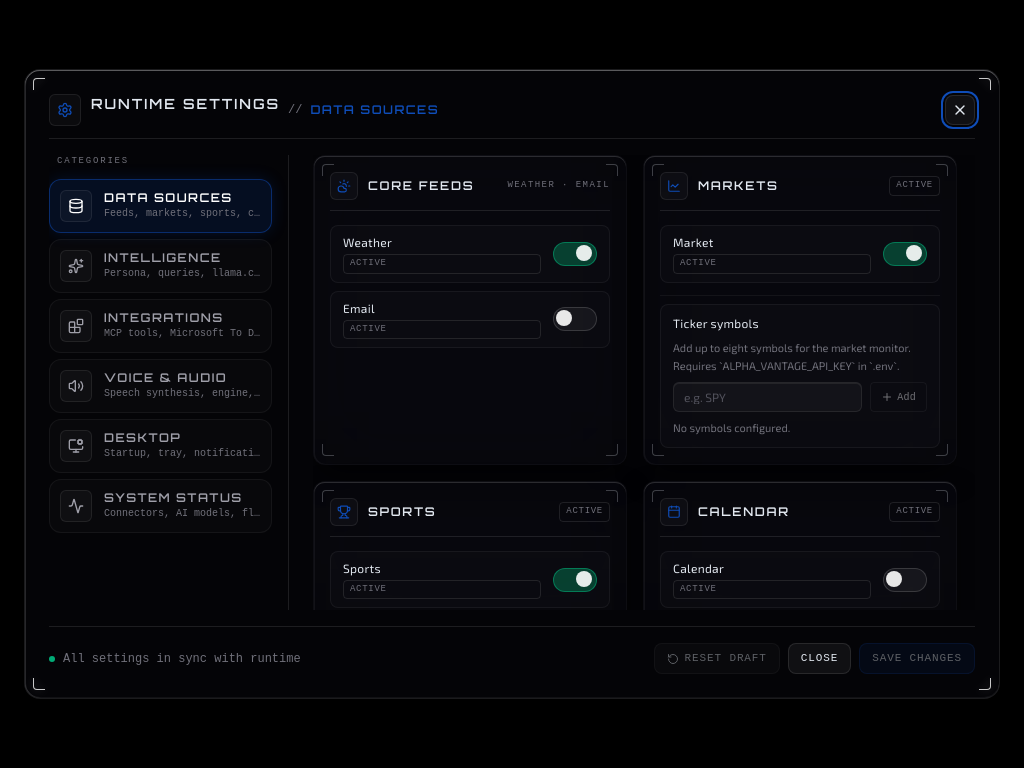
Test case: SettingsPanel › keeps assistant configuration in Cortex while retaining the global enable switch
What coordinates should you click on to do the following:
click the tab "Intelligence Persona, queries, llama.cpp"
I would click on:
 (160, 266)
Its box is [49,239,272,293].
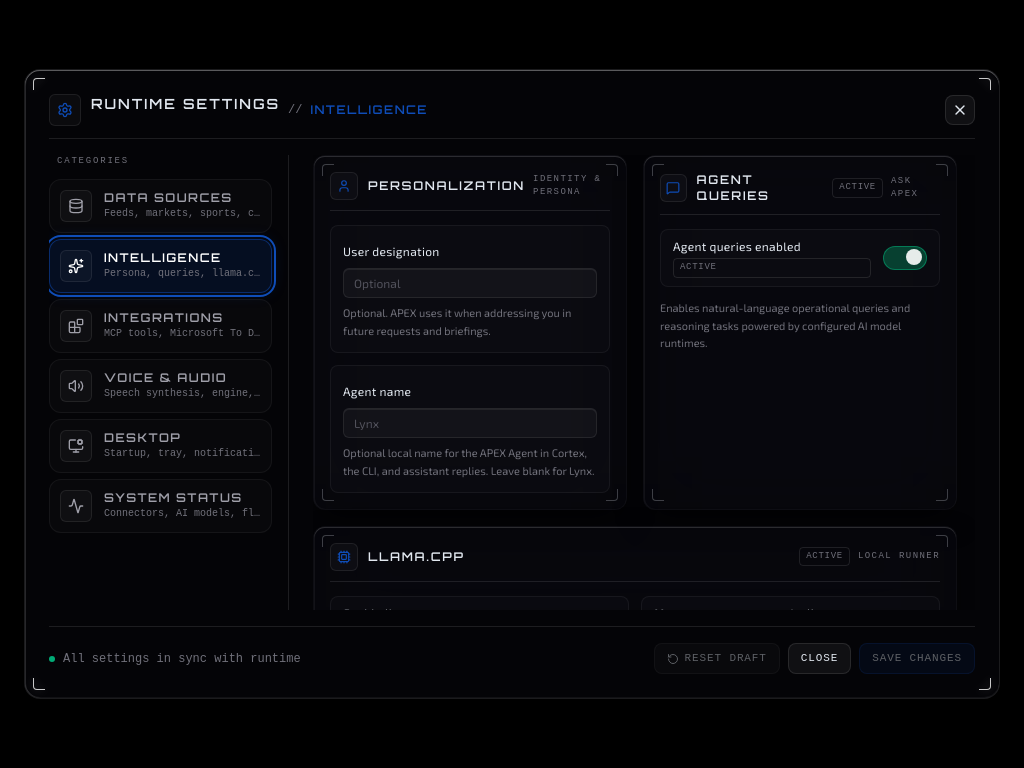
Now the switch named "Agent queries enabled" is shown, box [883,246,927,270]
